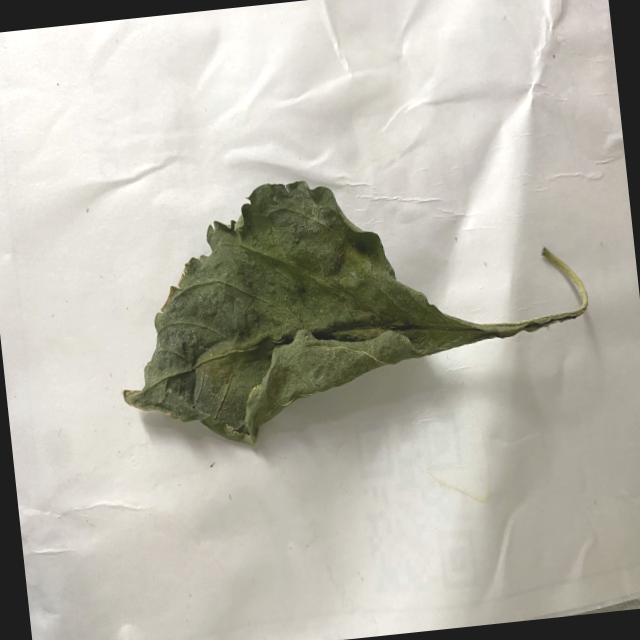Leaf: (102, 164, 472, 459)
